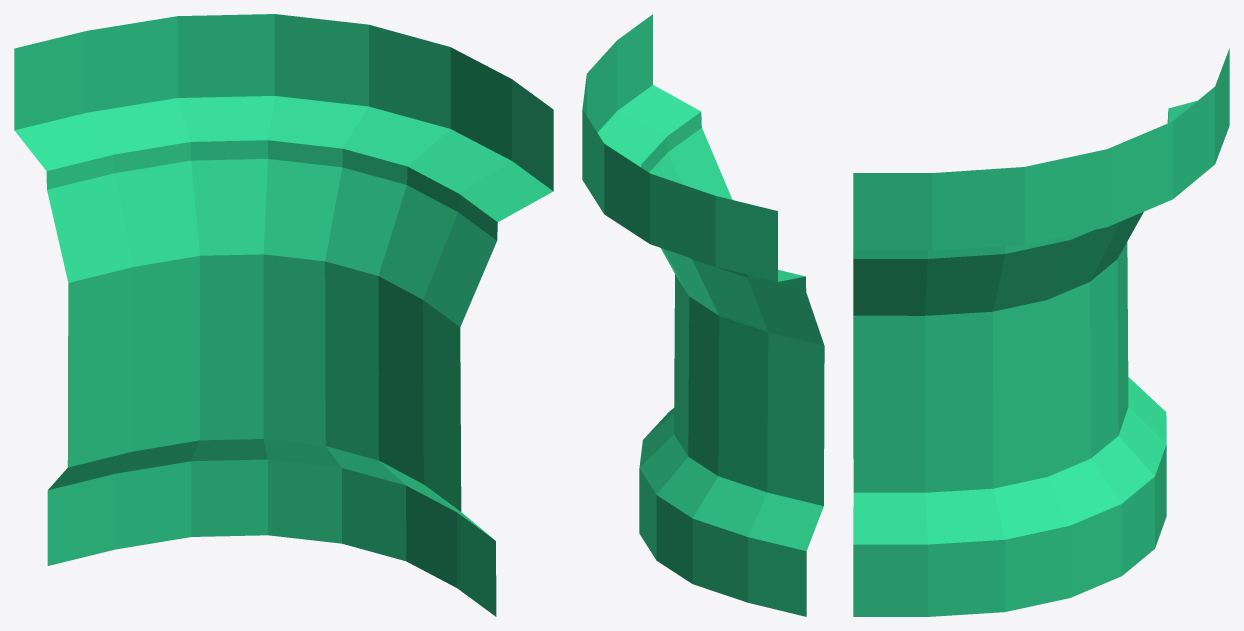
File: ColCornerOut.fbx
The picture shows the model from 3 angles, left to right: view 1: azimuth 30°, elevation 25°; view 2: azimuth 150°, elevation 25°; view 3: azimuth 270°, elevation 25°; orthographic projection. The views are drawn at different scales.
Visible parts, largest first — view 1: ColCornerOut; view 2: ColCornerOut; view 3: ColCornerOut.
Boxes of the visible parts, <box> form: ColCornerOut: <box>14,14,553,616</box>; ColCornerOut: <box>582,14,824,616</box>; ColCornerOut: <box>853,48,1229,616</box>.
Size of the model in its own units: 239 by 330 by 239.
